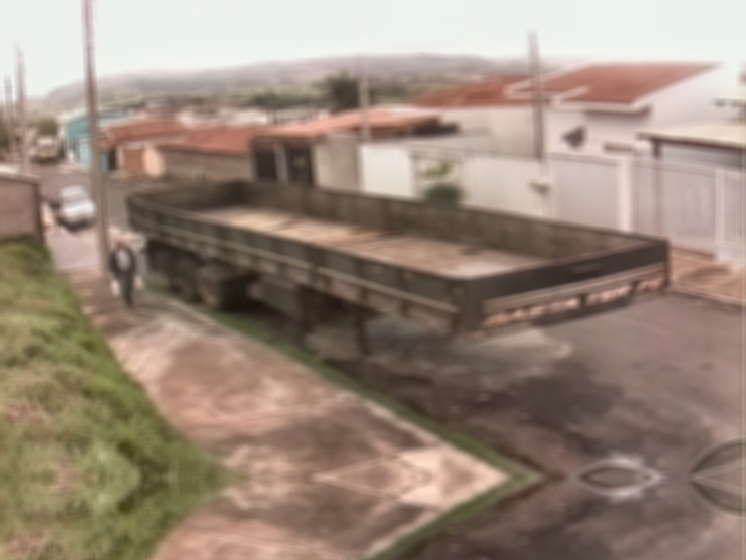person: (109, 238, 139, 309)
